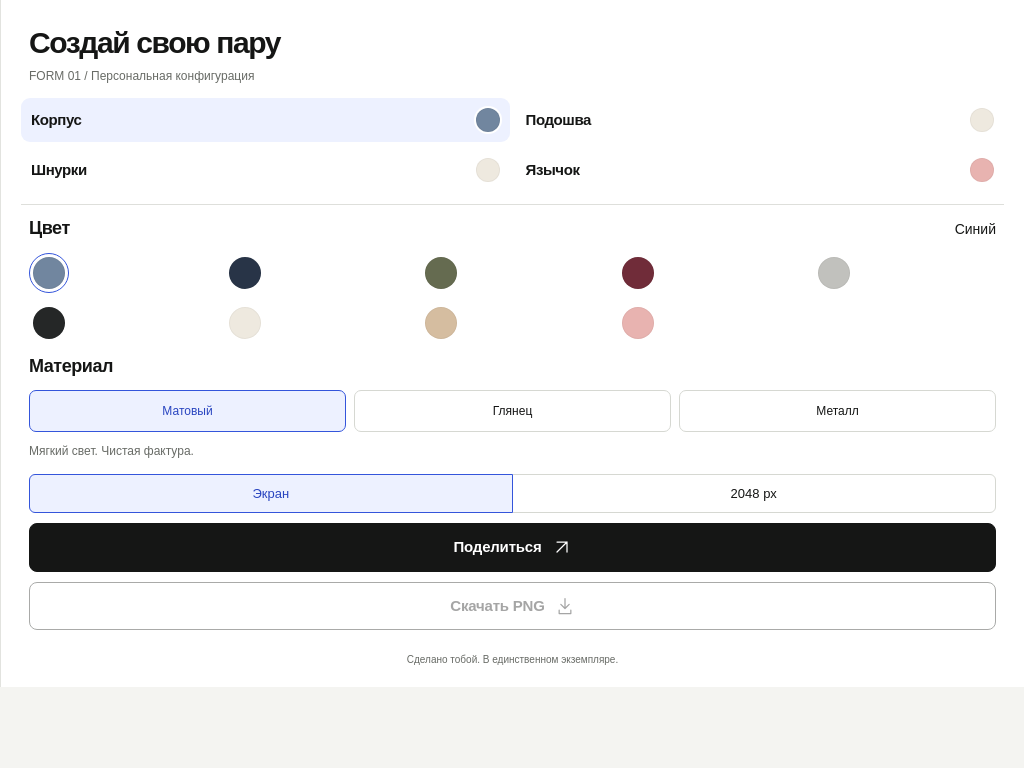
Test: export and sharing › provides a selected readonly share link when clipboard permission is denied
Click the button "Поделиться" at (512, 547), box [29,523,996,572]
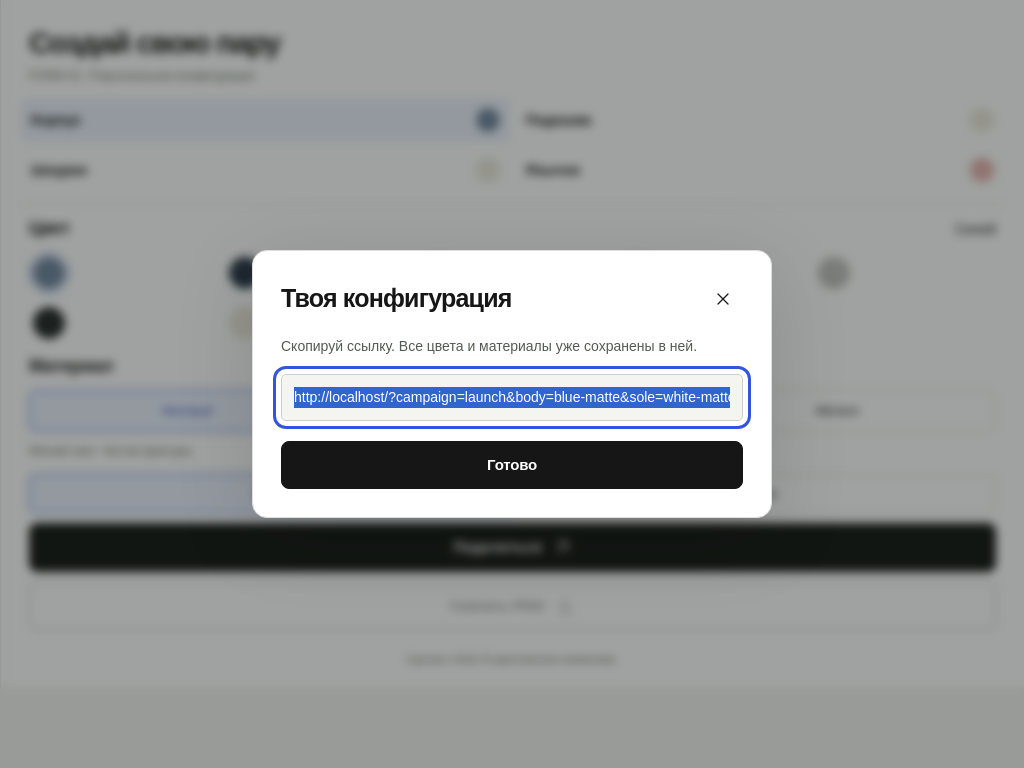
Click the button "Готово" at (512, 465), box [281,441,743,489]
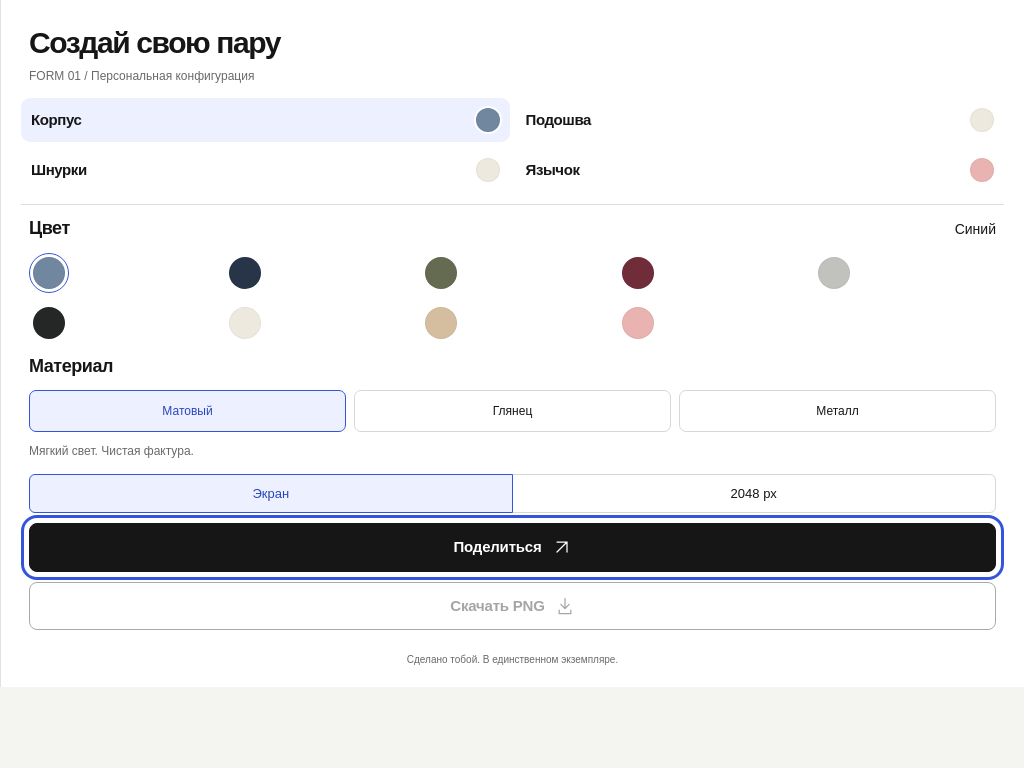
Now the dialog is gone
